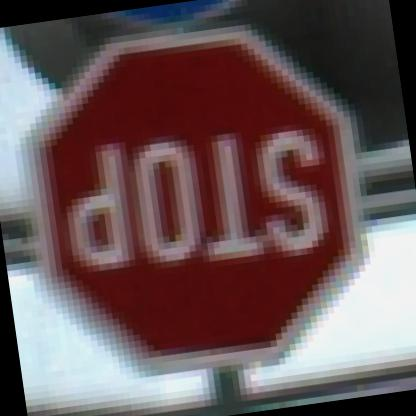stop: (3, 15, 390, 416)
